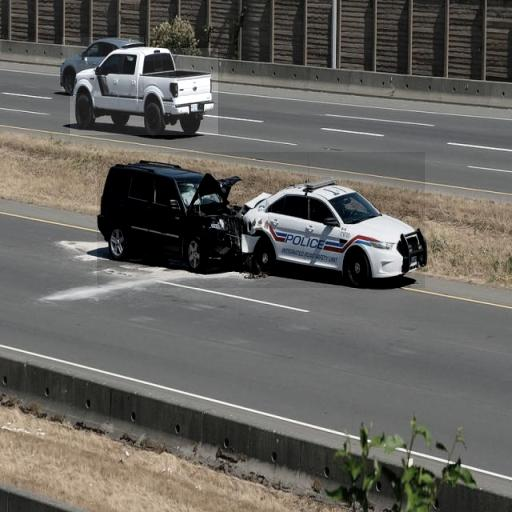小汽车: (70, 48, 218, 135), (62, 37, 144, 93)
小汽车撞小汽车: (98, 152, 426, 288)
